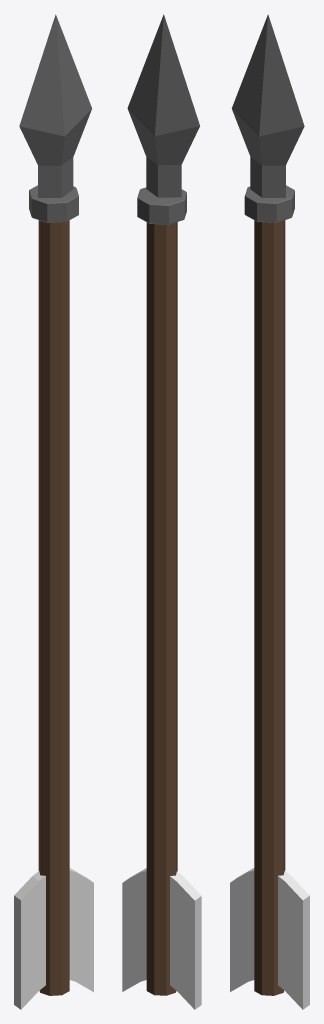
Rendered from Arrow_1.fbx.
The picture shows the model from 3 angles, left to right: view 1: azimuth 30°, elevation 25°; view 2: azimuth 150°, elevation 25°; view 3: azimuth 330°, elevation 25°; orthographic projection.
Parts seen in each view (by area): view 1: pCylinder6, pCube8, Cube; view 2: pCylinder6, pCube8, Cube; view 3: pCylinder6, pCube8, Cube.
Boxes of the visible parts, x1,y1,x2,y2 form: pCylinder6: (29,185,78,995); pCube8: (19,14,91,197); Cube: (14,868,93,1009); pCylinder6: (137,187,186,995); pCube8: (127,14,199,197); Cube: (122,868,201,1009); pCylinder6: (244,185,294,995); pCube8: (231,14,304,197); Cube: (230,868,309,1009).
Bounding box in the file's own units: 43.54 × 562 × 26.79.
